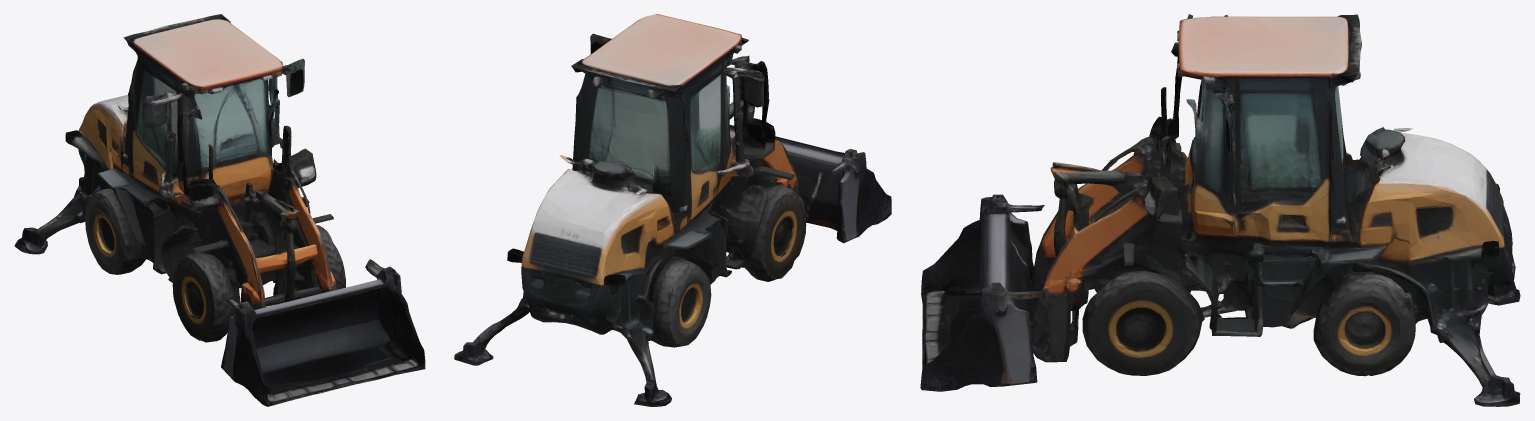
Rendered from bagerV-v1.glb.
The picture shows the model from 3 angles, left to right: view 1: azimuth 30°, elevation 25°; view 2: azimuth 150°, elevation 25°; view 3: azimuth 270°, elevation 25°; orthographic projection. The views are drawn at different scales.
Visible parts, largest first — view 1: world; view 2: world; view 3: world.
Part boxes in pixels (box(x1,y1,x2,y2)): world: box(14, 14, 425, 406); world: box(454, 14, 891, 406); world: box(920, 14, 1520, 406).
Size of the model in its own units: 0.4785 by 0.5605 by 1.
1 material, 1 textured.
